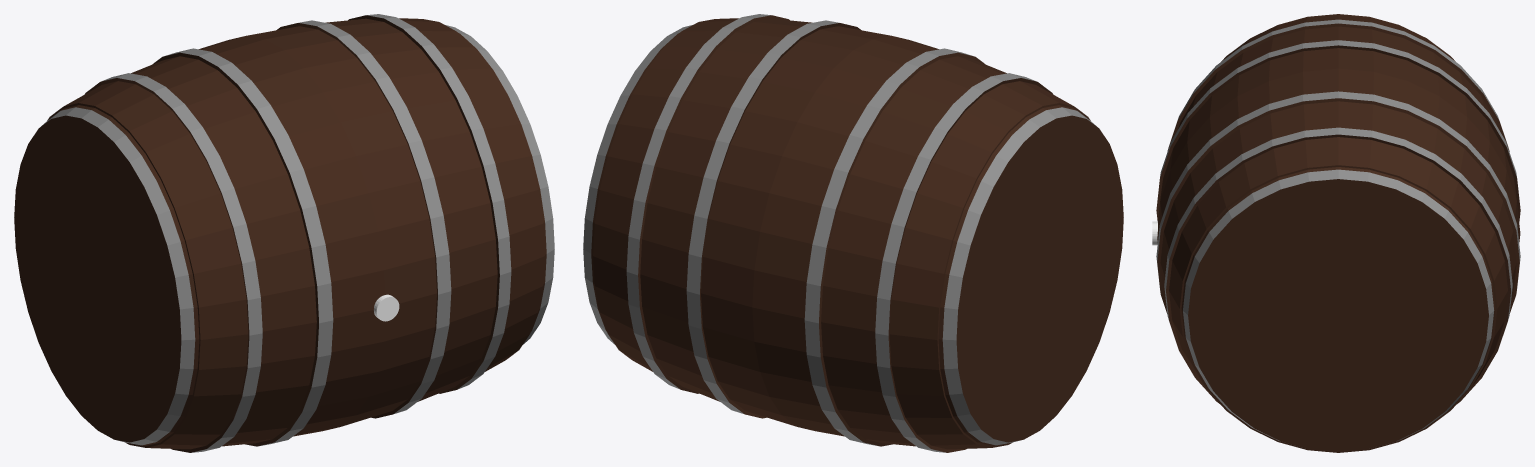
The model's file is Barril.fbx.
3 renders of one model, left to right at view 1: azimuth 30°, elevation 25°; view 2: azimuth 150°, elevation 25°; view 3: azimuth 270°, elevation 25°, orthographic. The views are drawn at different scales.
Visible parts, largest first — view 1: Barril; view 2: Barril; view 3: Barril.
Boxes of the visible parts, <box> form: Barril: <box>14,14,554,452</box>; Barril: <box>583,14,1123,452</box>; Barril: <box>1152,14,1520,452</box>.
Bounding box in the file's own units: 100 × 94.24 × 95.29.
Materials: 2 (2 with a texture image).
